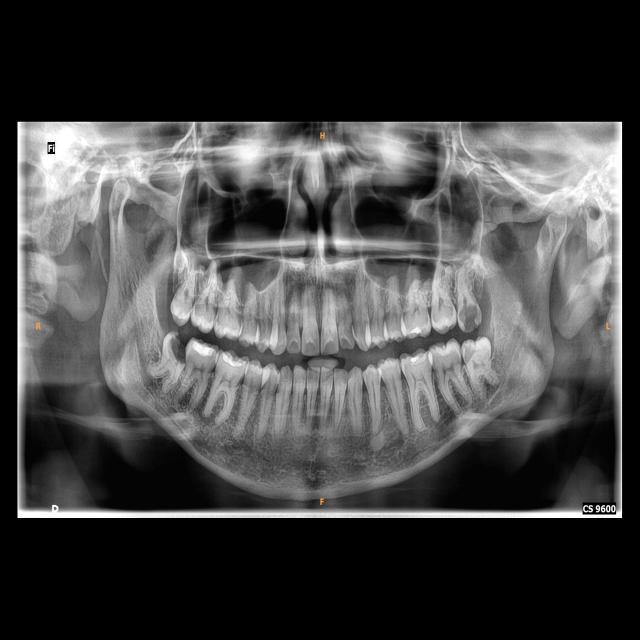dentin-curugu: (167, 331, 189, 369), (457, 303, 481, 330)
